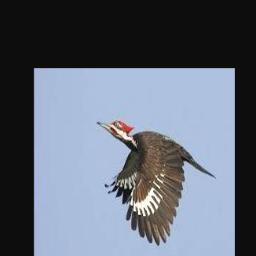Woodpecker: (97, 120, 216, 246)
